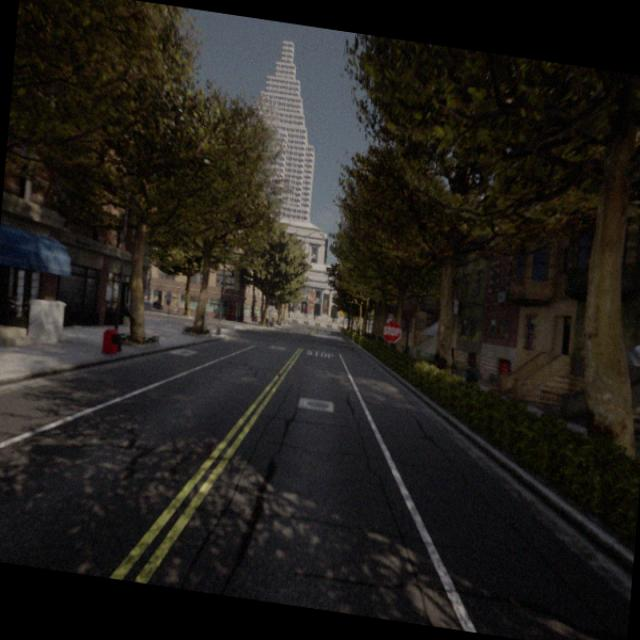stop sign: (381, 318, 403, 344)
